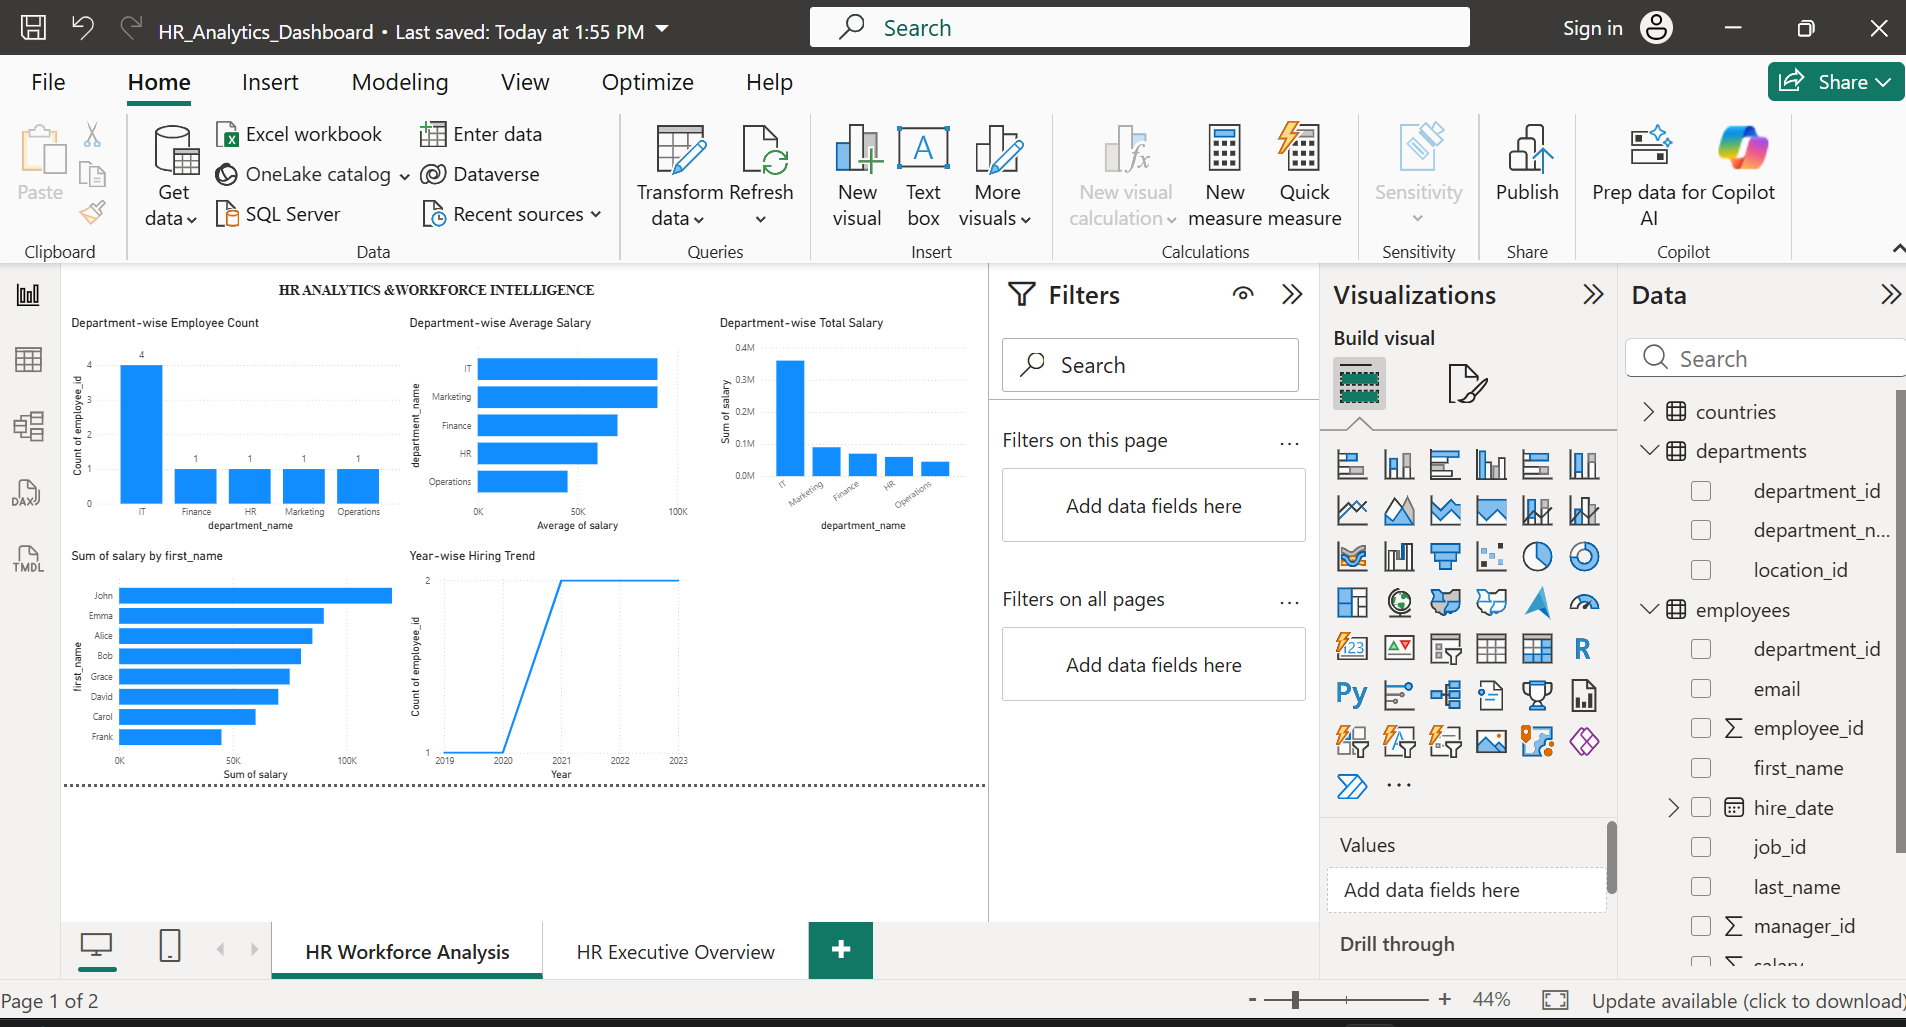

The dashboard page shown, as its layout file describes it:
{"tool":"powerbi","page":{"name":"HR Workforce Analysis","canvas":[1280,720],"ordinal":0},"visuals":[{"type":"clusteredColumnChart","title":"Department-wise Employee Count","fields":{"Category":["departments.department_name"],"Y":["CountNonNull(employees.employee_id)"]},"box":[9.1,72.9,467.1,303],"z":0},{"type":"clusteredBarChart","title":"Department-wise Average Salary ","fields":{"Category":["departments.department_name"],"Y":["Avg(employees.salary)"]},"box":[476.2,72.9,394.2,303],"z":1000},{"type":"clusteredBarChart","fields":{"Category":["employees.first_name"],"Y":["Sum(employees.salary)"]},"box":[9.1,394.2,467.1,325.8],"z":2000},{"type":"lineChart","title":"Year-wise Hiring Trend","fields":{"Category":["employees.hire_date.Variation.Date Hierarchy.Year"],"Y":["CountNonNull(employees.employee_id)"]},"box":[476.2,394.2,394.2,325.8],"z":3000},{"type":"clusteredColumnChart","title":"Department-wise Total Salary","fields":{"Category":["departments.department_name"],"Y":["Sum(employees.salary)"]},"box":[904.5,72.9,348.6,303],"z":4000},{"type":"textbox","box":[296.2,22.8,574.1,34.2],"z":4001}]}

Visuals, with their boxes on the page's 1280x720 design canvas (x1, y1, x2, y2). These are canvas units, not pixel positions in the 1906x1027 screenshot, which may show the page scaled, cropped or inside an application window:
"Department-wise Employee Count" clusteredColumnChart: <bbox>9, 73, 476, 376</bbox>
"Department-wise Average Salary " clusteredBarChart: <bbox>476, 73, 870, 376</bbox>
clusteredBarChart - employees.first_name x Sum(employees.salary): <bbox>9, 394, 476, 720</bbox>
"Year-wise Hiring Trend" lineChart: <bbox>476, 394, 870, 720</bbox>
"Department-wise Total Salary" clusteredColumnChart: <bbox>904, 73, 1253, 376</bbox>
textbox: <bbox>296, 23, 870, 57</bbox>
